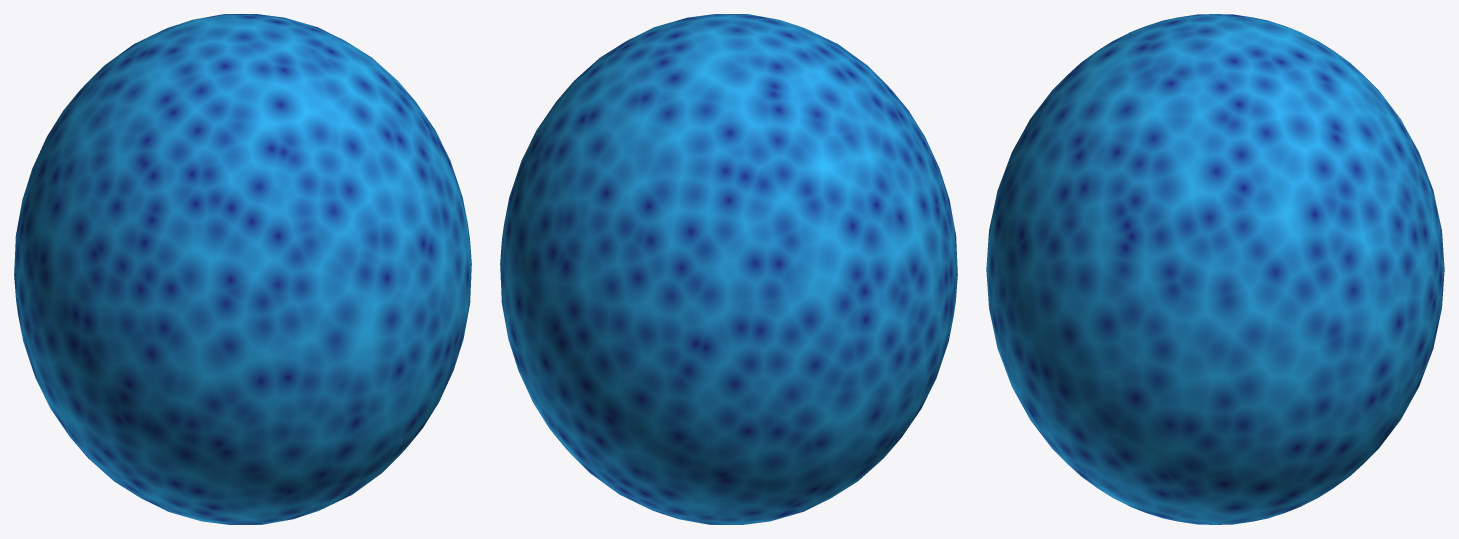
File: organelo_vacuola.glb
3 renders of one model, left to right at view 1: azimuth 30°, elevation 25°; view 2: azimuth 150°, elevation 25°; view 3: azimuth 270°, elevation 25°, orthographic.
Visible parts, largest first — view 1: Vacuole-material; view 2: Vacuole-material; view 3: Vacuole-material.
Part boxes in pixels (left/top/right/bottom): Vacuole-material: left=14, top=14, right=471, bottom=524; Vacuole-material: left=500, top=14, right=957, bottom=524; Vacuole-material: left=986, top=14, right=1444, bottom=524.
Size of the model in its own units: 2 by 2.28 by 2.
Materials: 1 (1 with a texture image).
